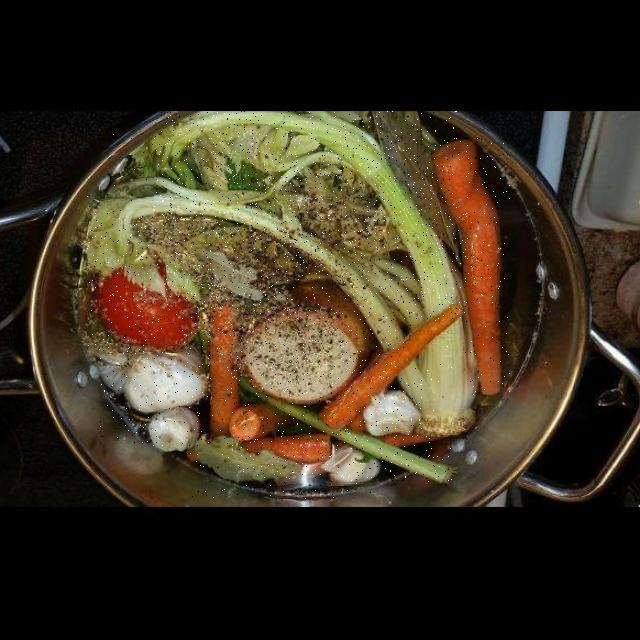biowaste: (154, 111, 462, 320), (87, 195, 404, 352), (283, 164, 425, 329), (239, 376, 455, 482), (432, 138, 510, 395), (106, 126, 347, 205), (320, 303, 466, 428), (238, 278, 378, 403), (191, 433, 379, 498), (101, 344, 203, 447), (92, 253, 196, 353), (398, 319, 469, 434), (231, 406, 343, 465), (207, 303, 247, 435), (362, 379, 423, 441)
